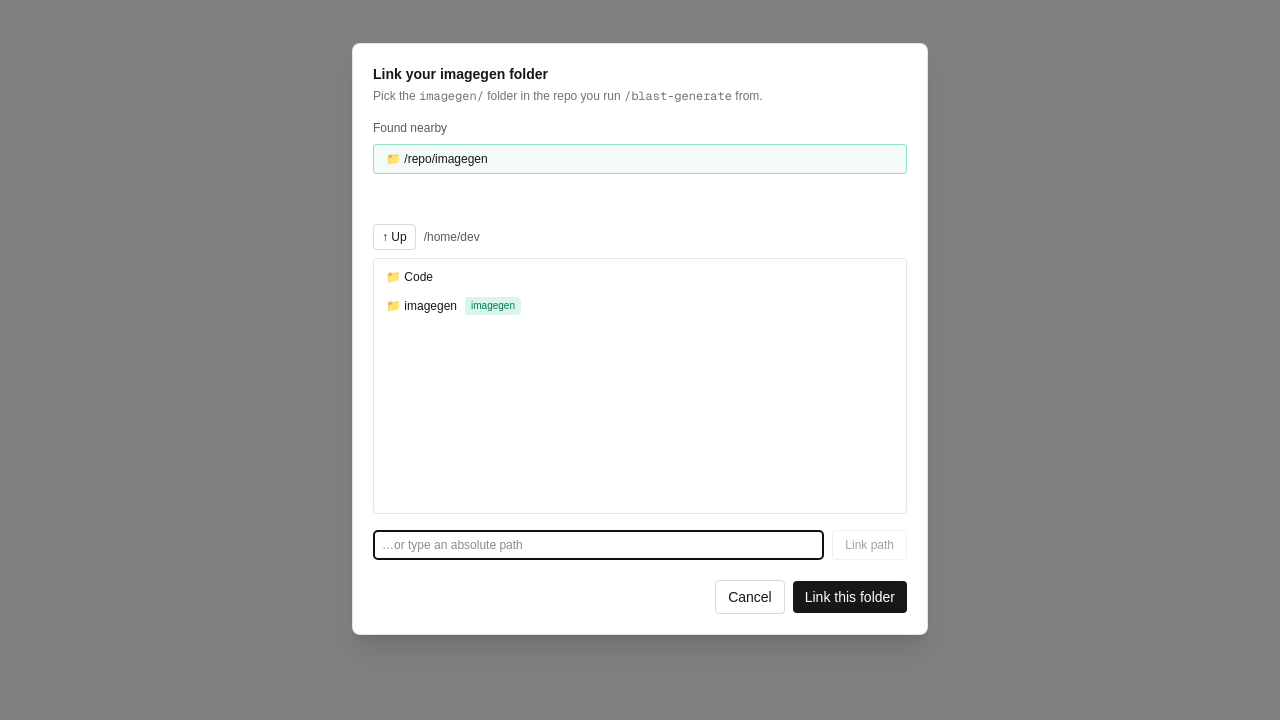
failures stay inside the dialog › shows a link failure and does not close
Check: the text "/home/dev" is shown, box [424,230,480,244]
Type "/nope" into the field labelled "or type an absolute path" at [599, 545], box [373,530,824,560]
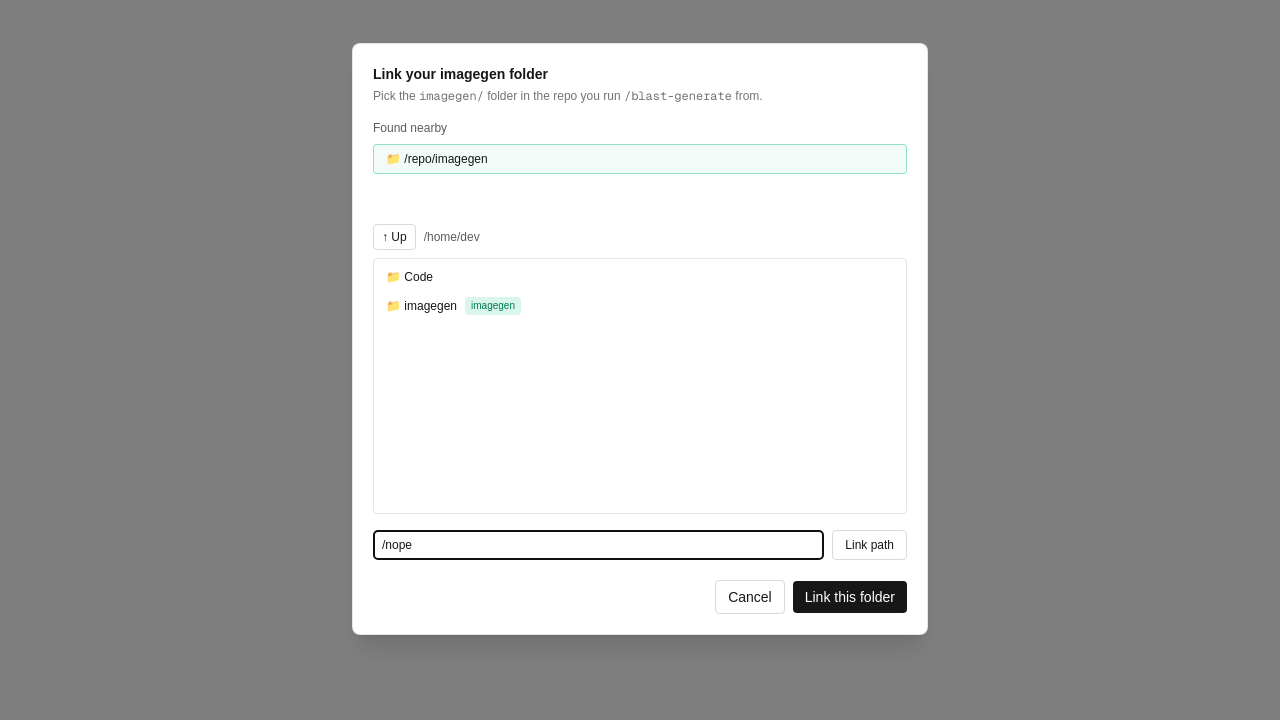
Click the button "Link path" at [870, 545], box [832,530,907,560]
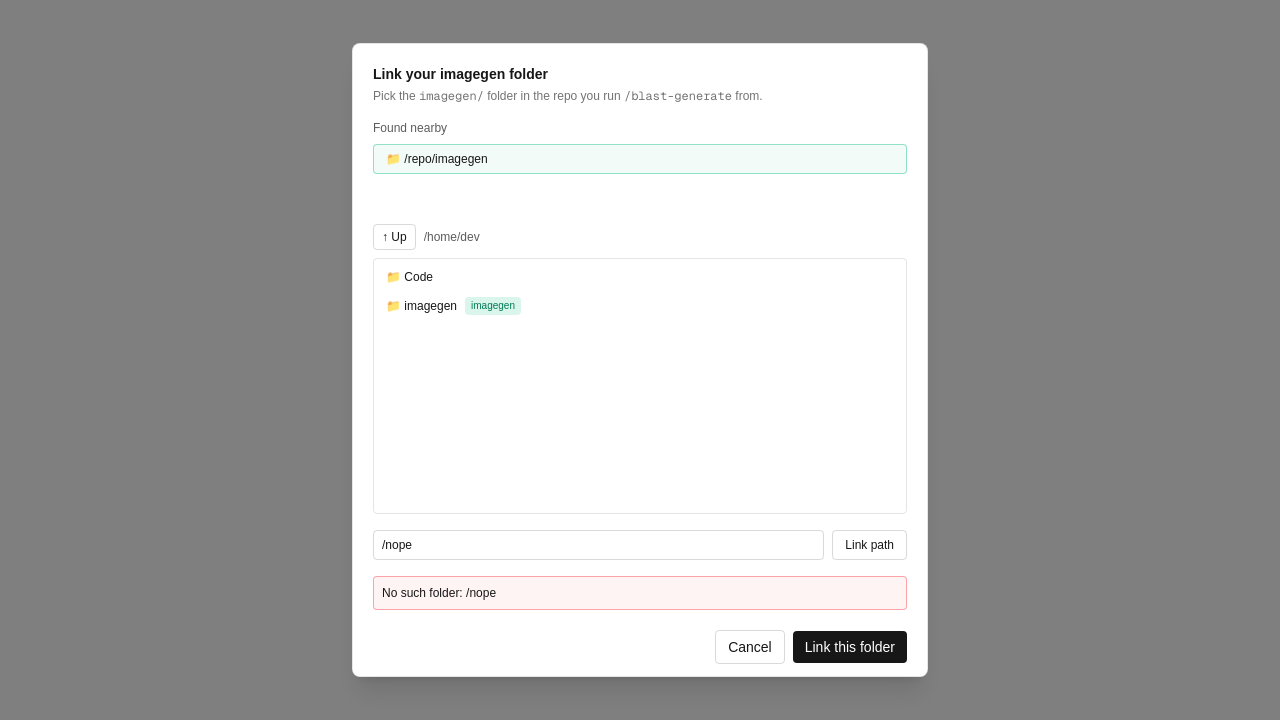
Check: the dialog named "Link imagegen folder" is shown, box [352,43,928,677]
Check: the message reads "No such folder: /nope", box [382,586,496,600]
